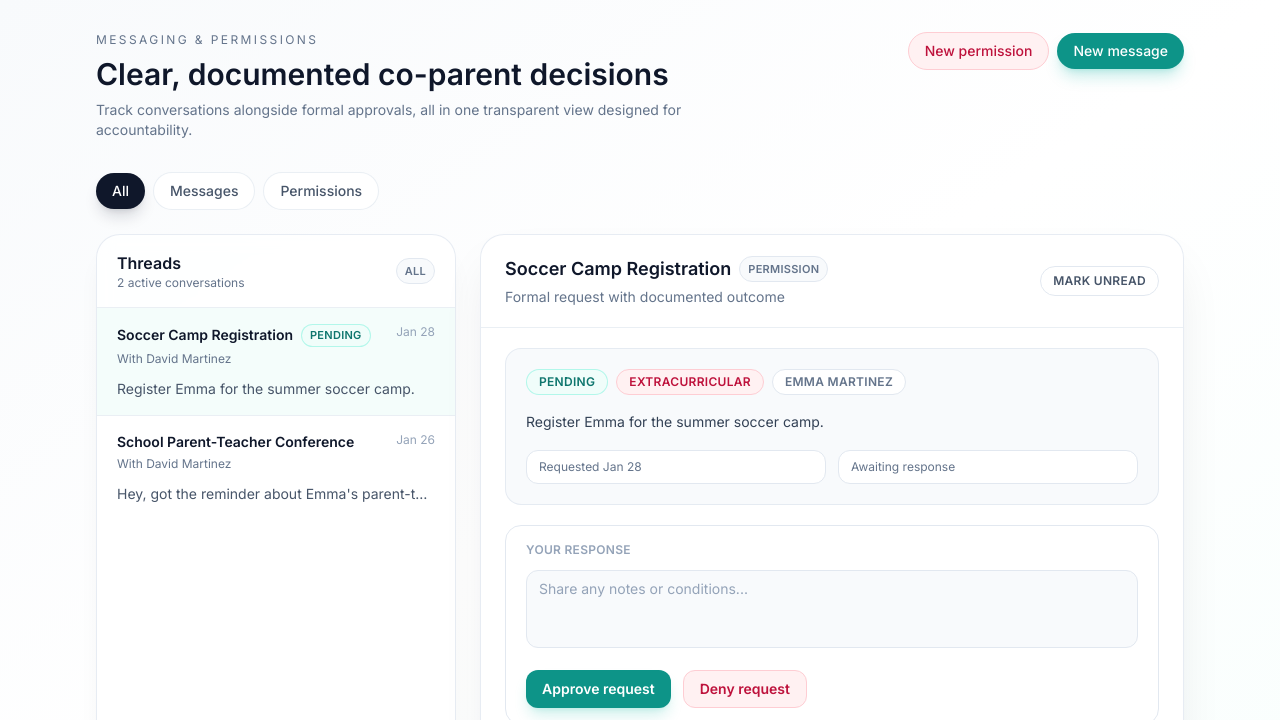
Test: MessagingAndPermissions › approves a permission request and updates the status
Click the button "Soccer Camp Registration". click: (205, 335)
box: [97,308,455,414]
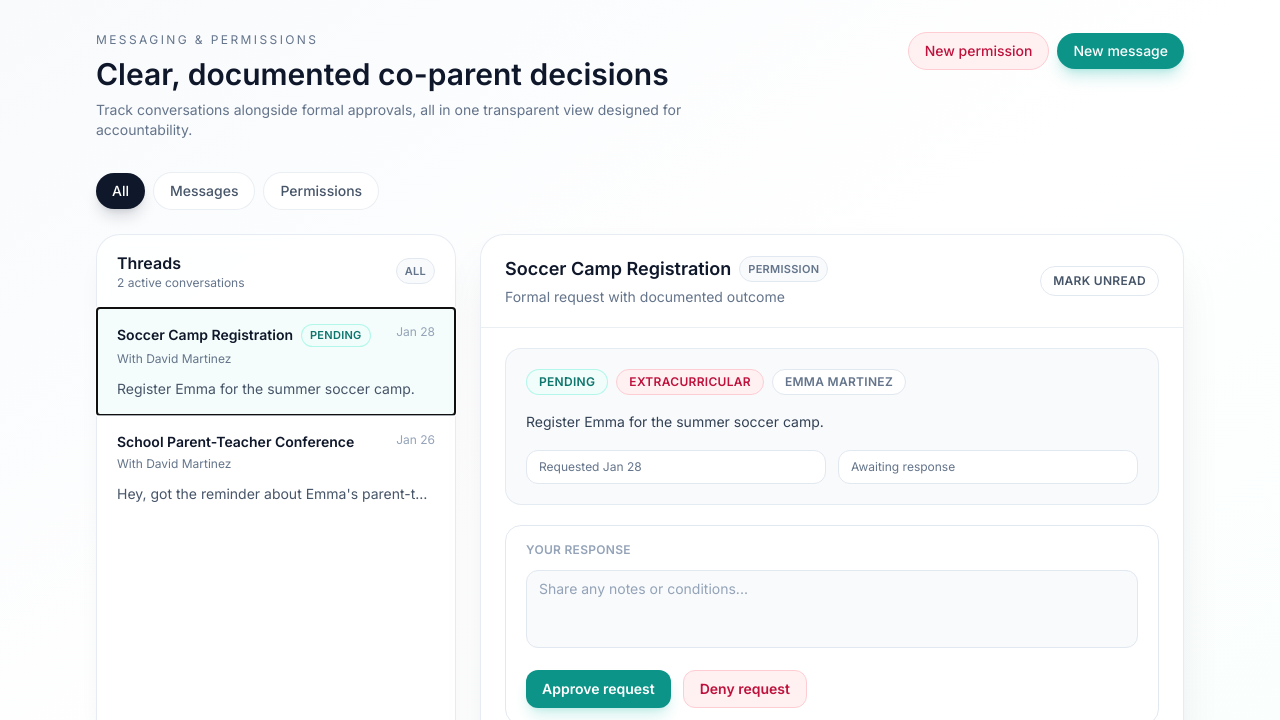
Type "Approved, thanks for coordinating." into the text box with placeholder "Share any notes or conditions...". click: (832, 609)
box: [526,570,1138,648]
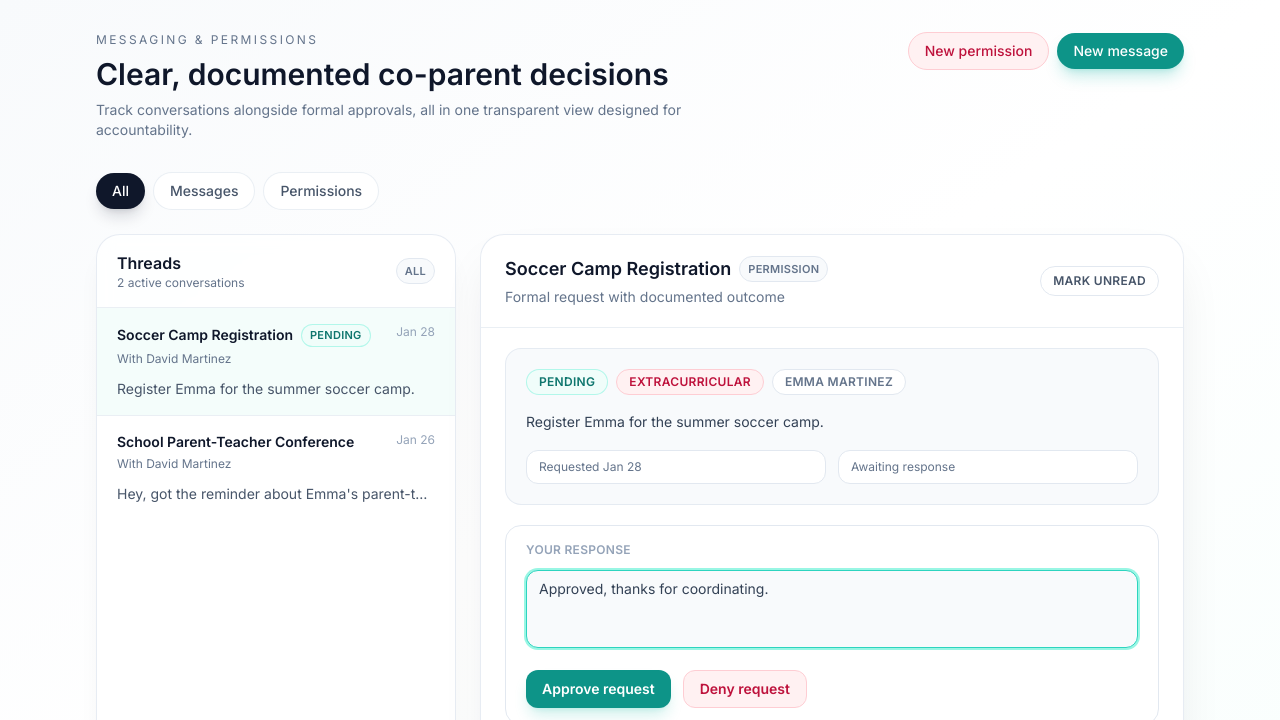
Click the button "Approve request". click: (598, 689)
box: [526,670,671,708]
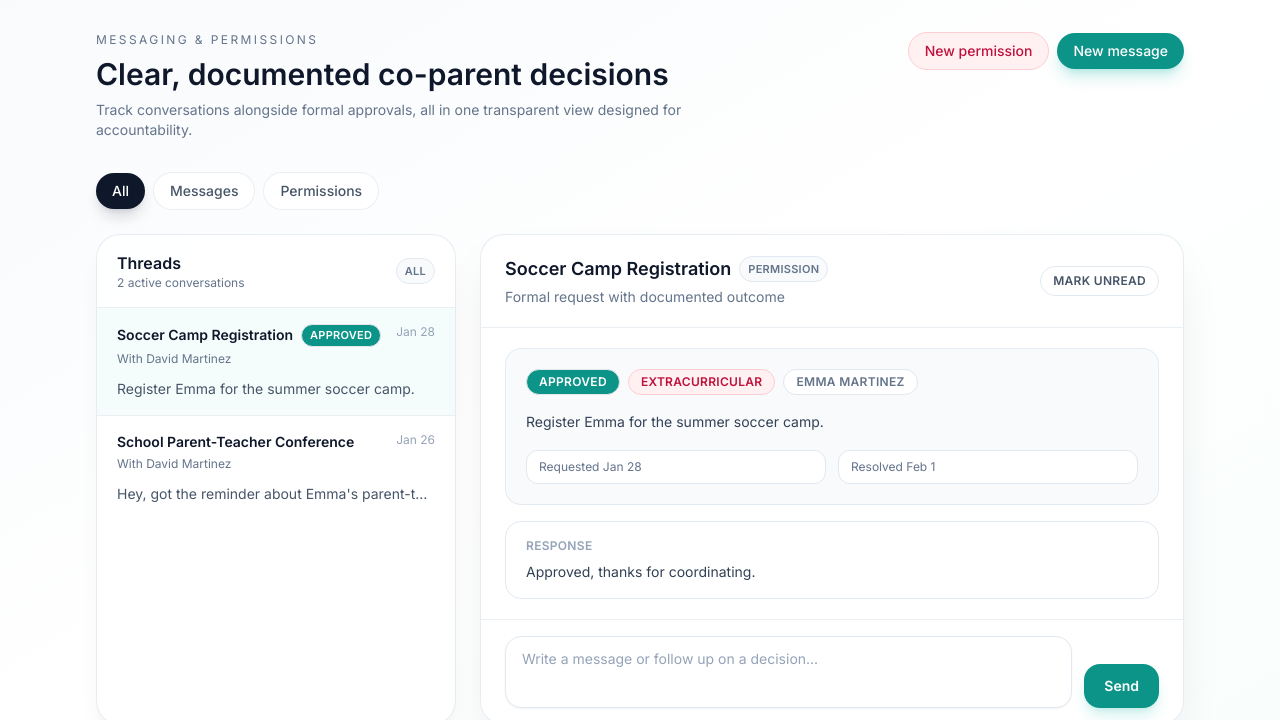
expect the text "approved" below "active conversations" is shown: met, box [310,328,372,342]
expect the text "Resolved Feb 1" is shown: met, box [838,450,1138,484]
